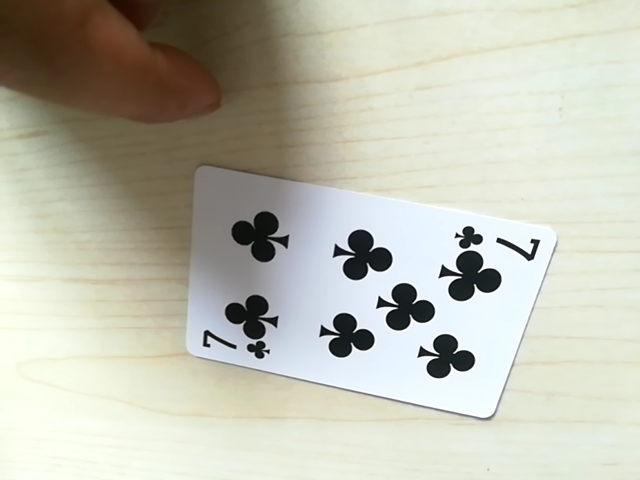mh 7: (451, 225, 545, 265), (197, 333, 272, 364)
